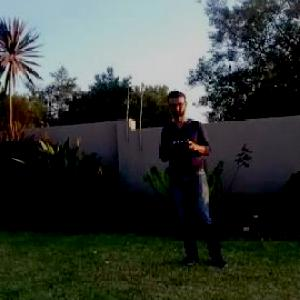follow: (156, 84, 232, 269)
